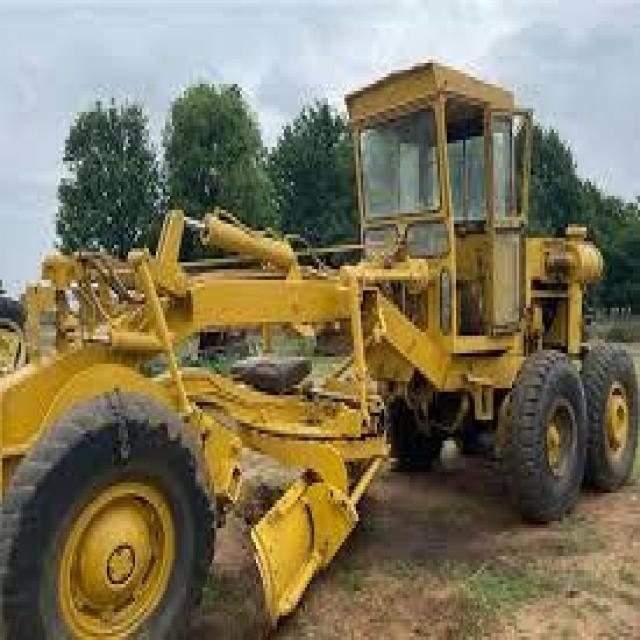Grader: (9, 35, 636, 636)
